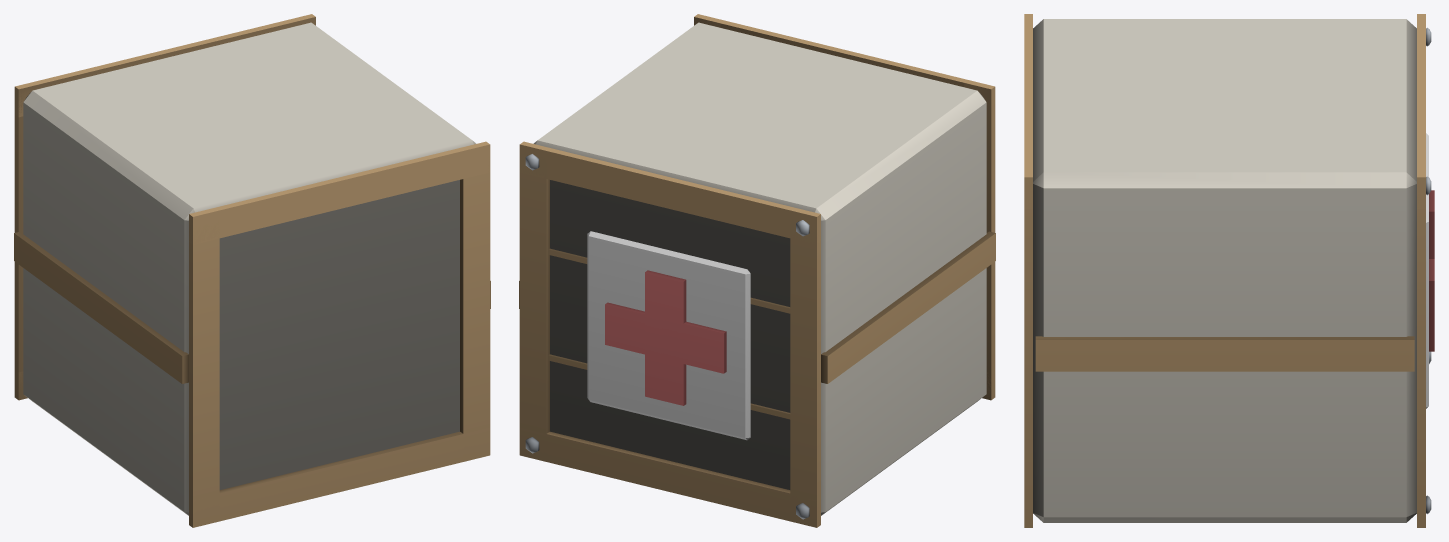
File: HealthCrate.fbx
3 views of the same model, side by side, from view 1: azimuth 30°, elevation 25°; view 2: azimuth 150°, elevation 25°; view 3: azimuth 270°, elevation 25° (orthographic). The views are drawn at different scales.
Visible parts, largest first — view 1: HealthCrate; view 2: HealthCrate; view 3: HealthCrate.
Boxes of the visible parts, x1,y1,x2,y2 form: HealthCrate: (14,14,490,527); HealthCrate: (519,14,995,527); HealthCrate: (1024,14,1434,527).
Bounding box in the file's own units: 1.35 × 1.3 × 1.38.
